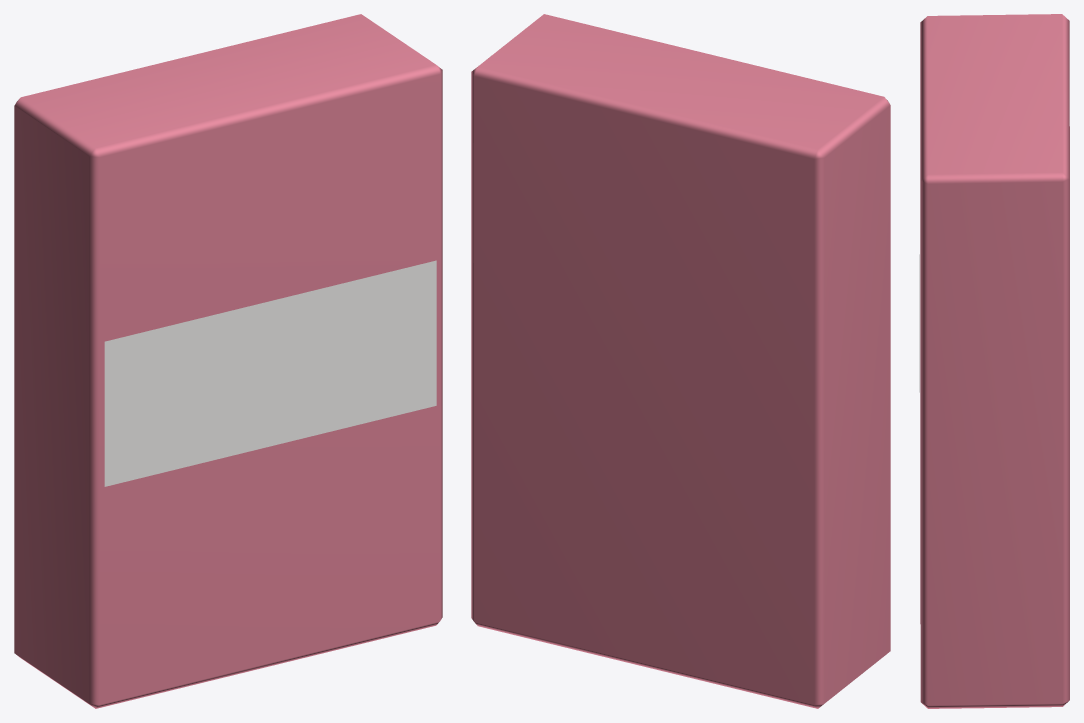
File: Powder_2.glb
3 views of the same model, side by side, from view 1: azimuth 30°, elevation 25°; view 2: azimuth 150°, elevation 25°; view 3: azimuth 270°, elevation 25° (orthographic). The views are drawn at different scales.
Visible parts, largest first — view 1: Powder_2; view 2: Powder_2; view 3: Powder_2.
Boxes of the visible parts, <box> form: Powder_2: <box>14,14,442,708</box>; Powder_2: <box>471,14,890,708</box>; Powder_2: <box>919,14,1069,708</box>.
Size of the model in its own units: 0.2057 by 0.3078 by 0.0788.
1 material, 1 textured.
